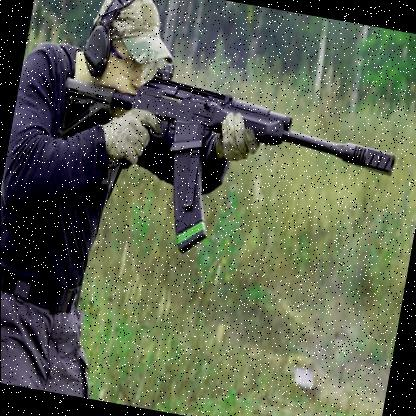rifle: (39, 44, 410, 276)
